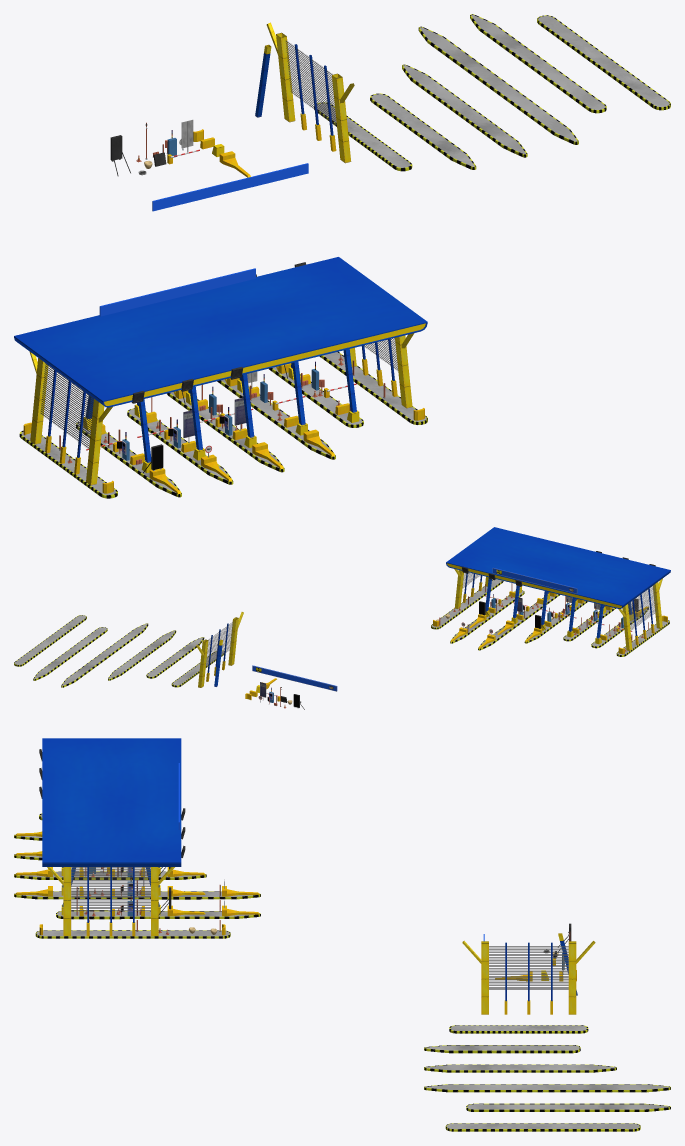
File: Gerbang Tol.fbx
3 views of the same model, one above another, from view 1: azimuth 30°, elevation 25°; view 2: azimuth 150°, elevation 25°; view 3: azimuth 270°, elevation 25° (orthographic). The views are drawn at different scales.
Visible parts, largest first — view 1: Cube.151, Cube.041, Cube.044, Cube.043, Cube.037, Plane.007, Cube.036, Plane.004, Plane.008, Plane.006, Cube.156, Cube.035 (+13 smaller); view 2: Cube.151, Cube.041, Cube.044, Cube.043, Plane.006, Cube.037, Cube.156, Cube.036, Plane.004, Plane.008, Plane.007, Cube.155 (+12 smaller); view 3: Cube.151, Plane.007, Plane.003, Cube.041, Cube.044, Cube.043, Cube.037, Cube.156, Cube.036, Cube.155, Cube.035, Cube.157 (+4 smaller).
Part boxes in pixels (box(x1,y1,x2,y2)): Cube.151: box(14, 257, 427, 407); Cube.041: box(418, 26, 578, 144); Cube.044: box(470, 14, 606, 113); Cube.043: box(537, 15, 670, 110); Cube.037: box(402, 64, 527, 157); Plane.007: box(286, 40, 337, 125); Cube.036: box(370, 93, 476, 169); Plane.004: box(152, 163, 308, 211); Plane.008: box(99, 268, 255, 316); Plane.006: box(40, 363, 93, 448); Cube.156: box(319, 351, 427, 424); Cube.035: box(314, 102, 412, 171); Cube.151: box(446, 527, 670, 608); Cube.041: box(61, 623, 148, 687); Cube.044: box(33, 627, 107, 680); Cube.043: box(14, 615, 86, 666); Plane.006: box(628, 585, 656, 630); Cube.037: box(108, 630, 176, 680); Cube.156: box(431, 579, 503, 629); Cube.036: box(146, 637, 204, 678); Plane.004: box(252, 665, 337, 691); Plane.008: box(492, 567, 577, 593); Plane.007: box(205, 621, 233, 666); Cube.155: box(478, 594, 559, 650); Cube.151: box(42, 738, 181, 866); Plane.007: box(489, 946, 568, 989); Plane.003: box(71, 867, 150, 910); Cube.041: box(424, 1084, 670, 1092); Cube.044: box(466, 1103, 670, 1111); Cube.043: box(445, 1123, 640, 1131); Cube.037: box(424, 1064, 616, 1072); Cube.156: box(35, 930, 230, 938); Cube.036: box(424, 1045, 580, 1053); Cube.155: box(14, 891, 260, 899); Cube.035: box(449, 1025, 588, 1033); Cube.157: box(56, 910, 260, 919).
Bounding box in the file's own units: 9693 × 1228 × 8491.
